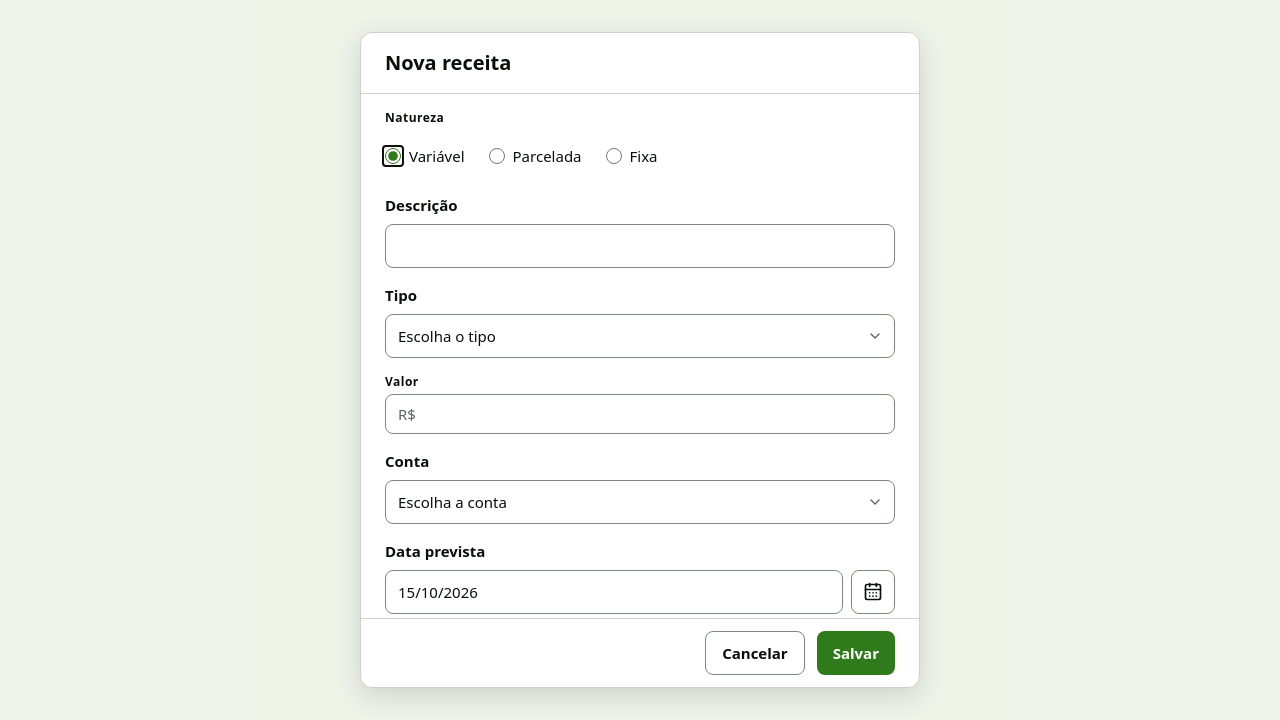
Test case: EarningFormDialog — create (spec 0014) › validates the required fields without sending
Clear the field labelled "Data prevista" at {"x": 614, "y": 592}, box [385, 570, 843, 614]
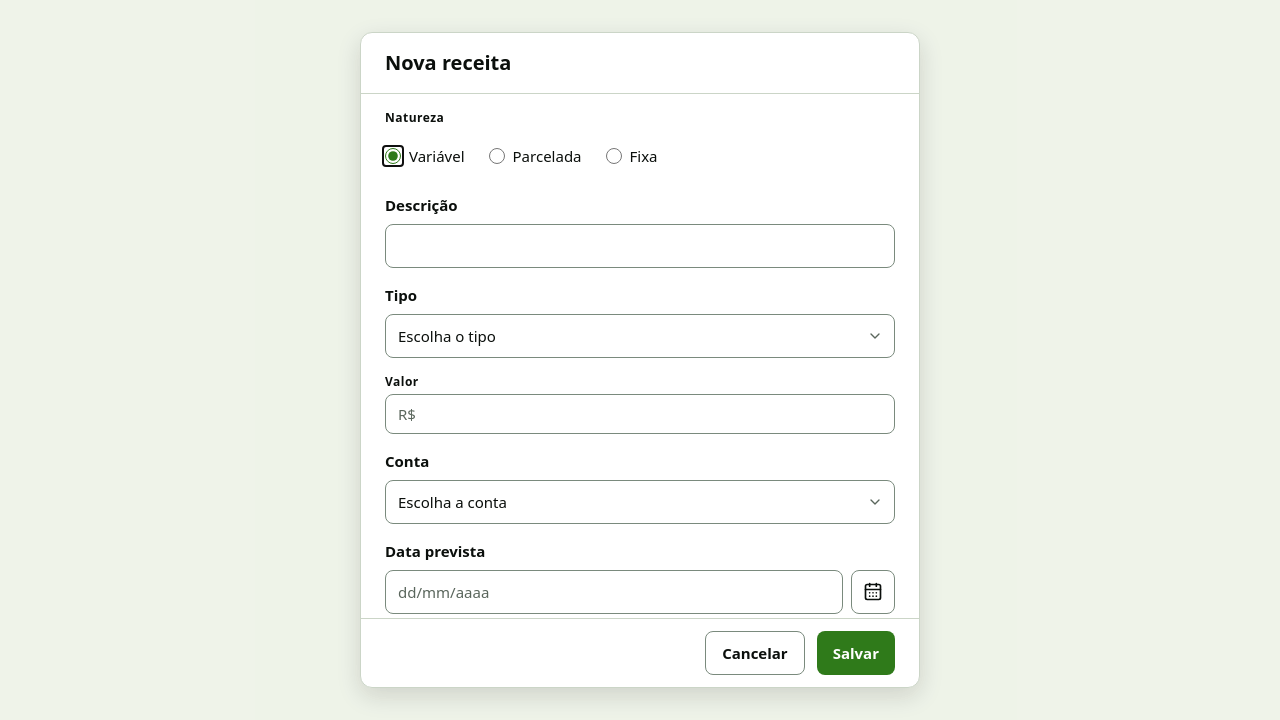
Click the button "Salvar" at {"x": 856, "y": 653}, box [817, 631, 895, 675]
(page scrolled)
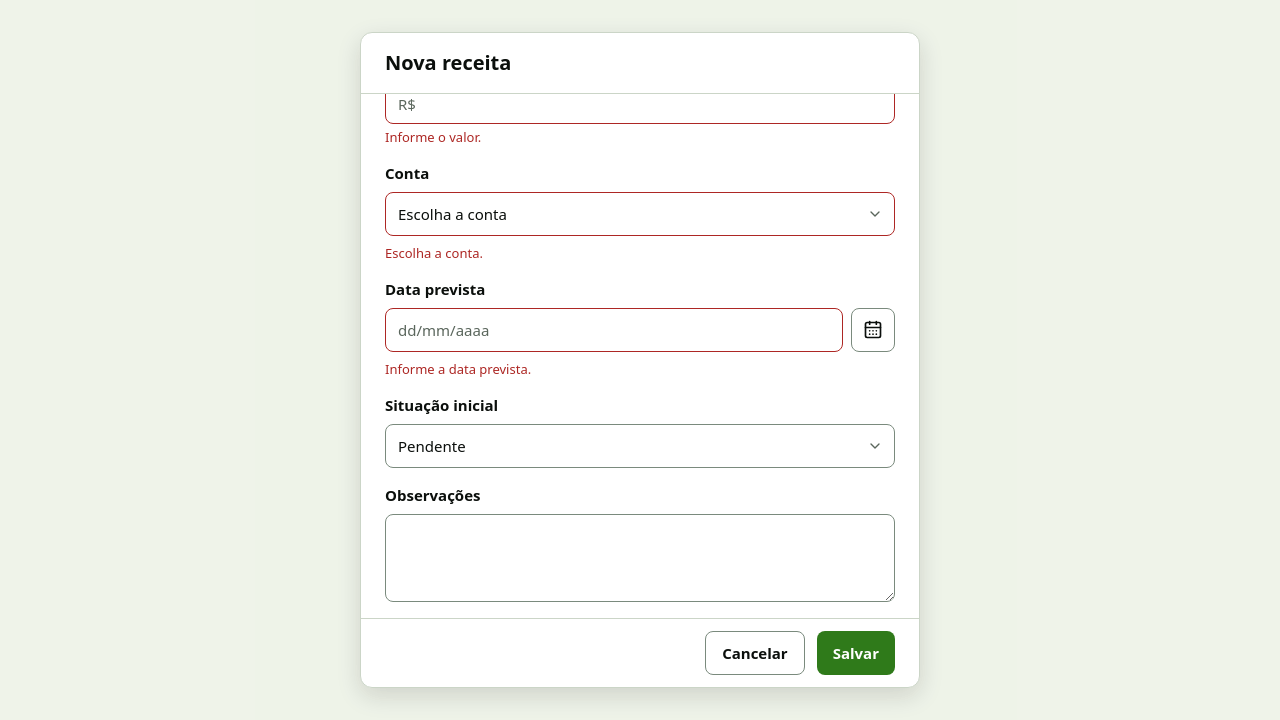
Expected: the text "Informe o valor." is shown, [385, 128, 481, 146]
Expected: the text "Escolha a conta." is shown, [385, 244, 483, 262]
Expected: the text "Informe a data prevista." is shown, [385, 360, 531, 378]
